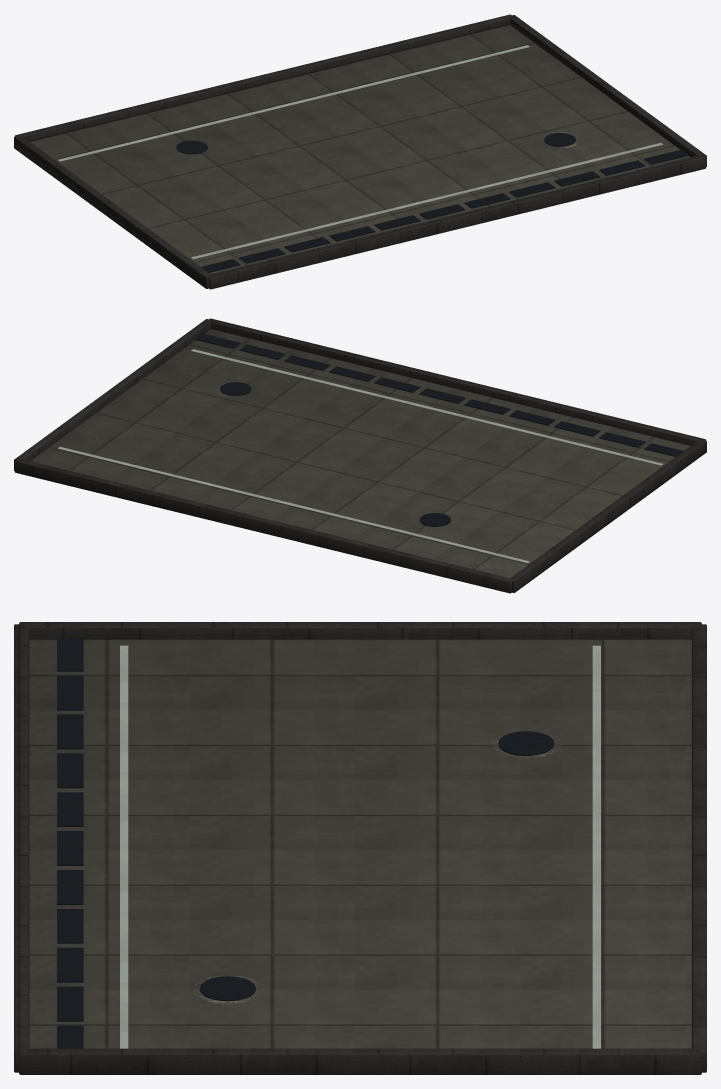
The model's file is fac_apron.glb.
3 views of the same model, one above another, from view 1: azimuth 30°, elevation 25°; view 2: azimuth 150°, elevation 25°; view 3: azimuth 270°, elevation 25° (orthographic). The views are drawn at different scales.
Parts seen in each view (by area): view 1: FAC_APRON; view 2: FAC_APRON; view 3: FAC_APRON.
Part boxes in pixels (left/top/right/bottom): FAC_APRON: left=14, top=14, right=706, bottom=289; FAC_APRON: left=14, top=318, right=706, bottom=593; FAC_APRON: left=14, top=622, right=706, bottom=1074.
Size of the model in its own units: 12.36 by 0.29 by 8.36.
6 materials, 6 textured.
